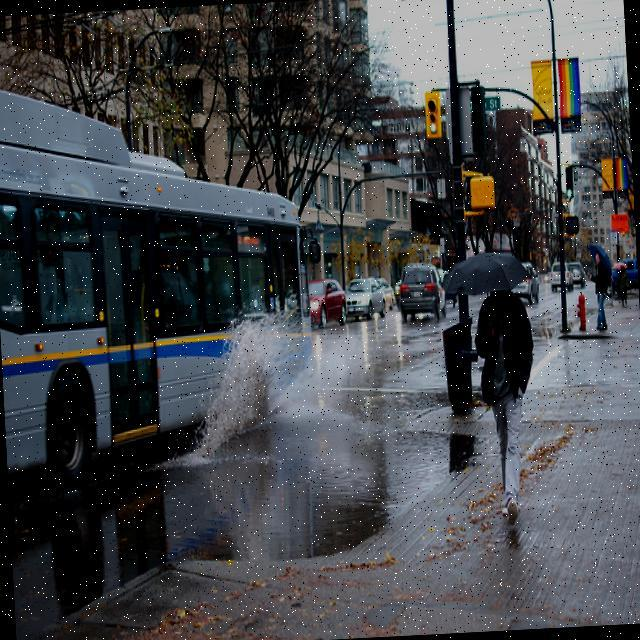fire_hydrant: (575, 291, 587, 330)
